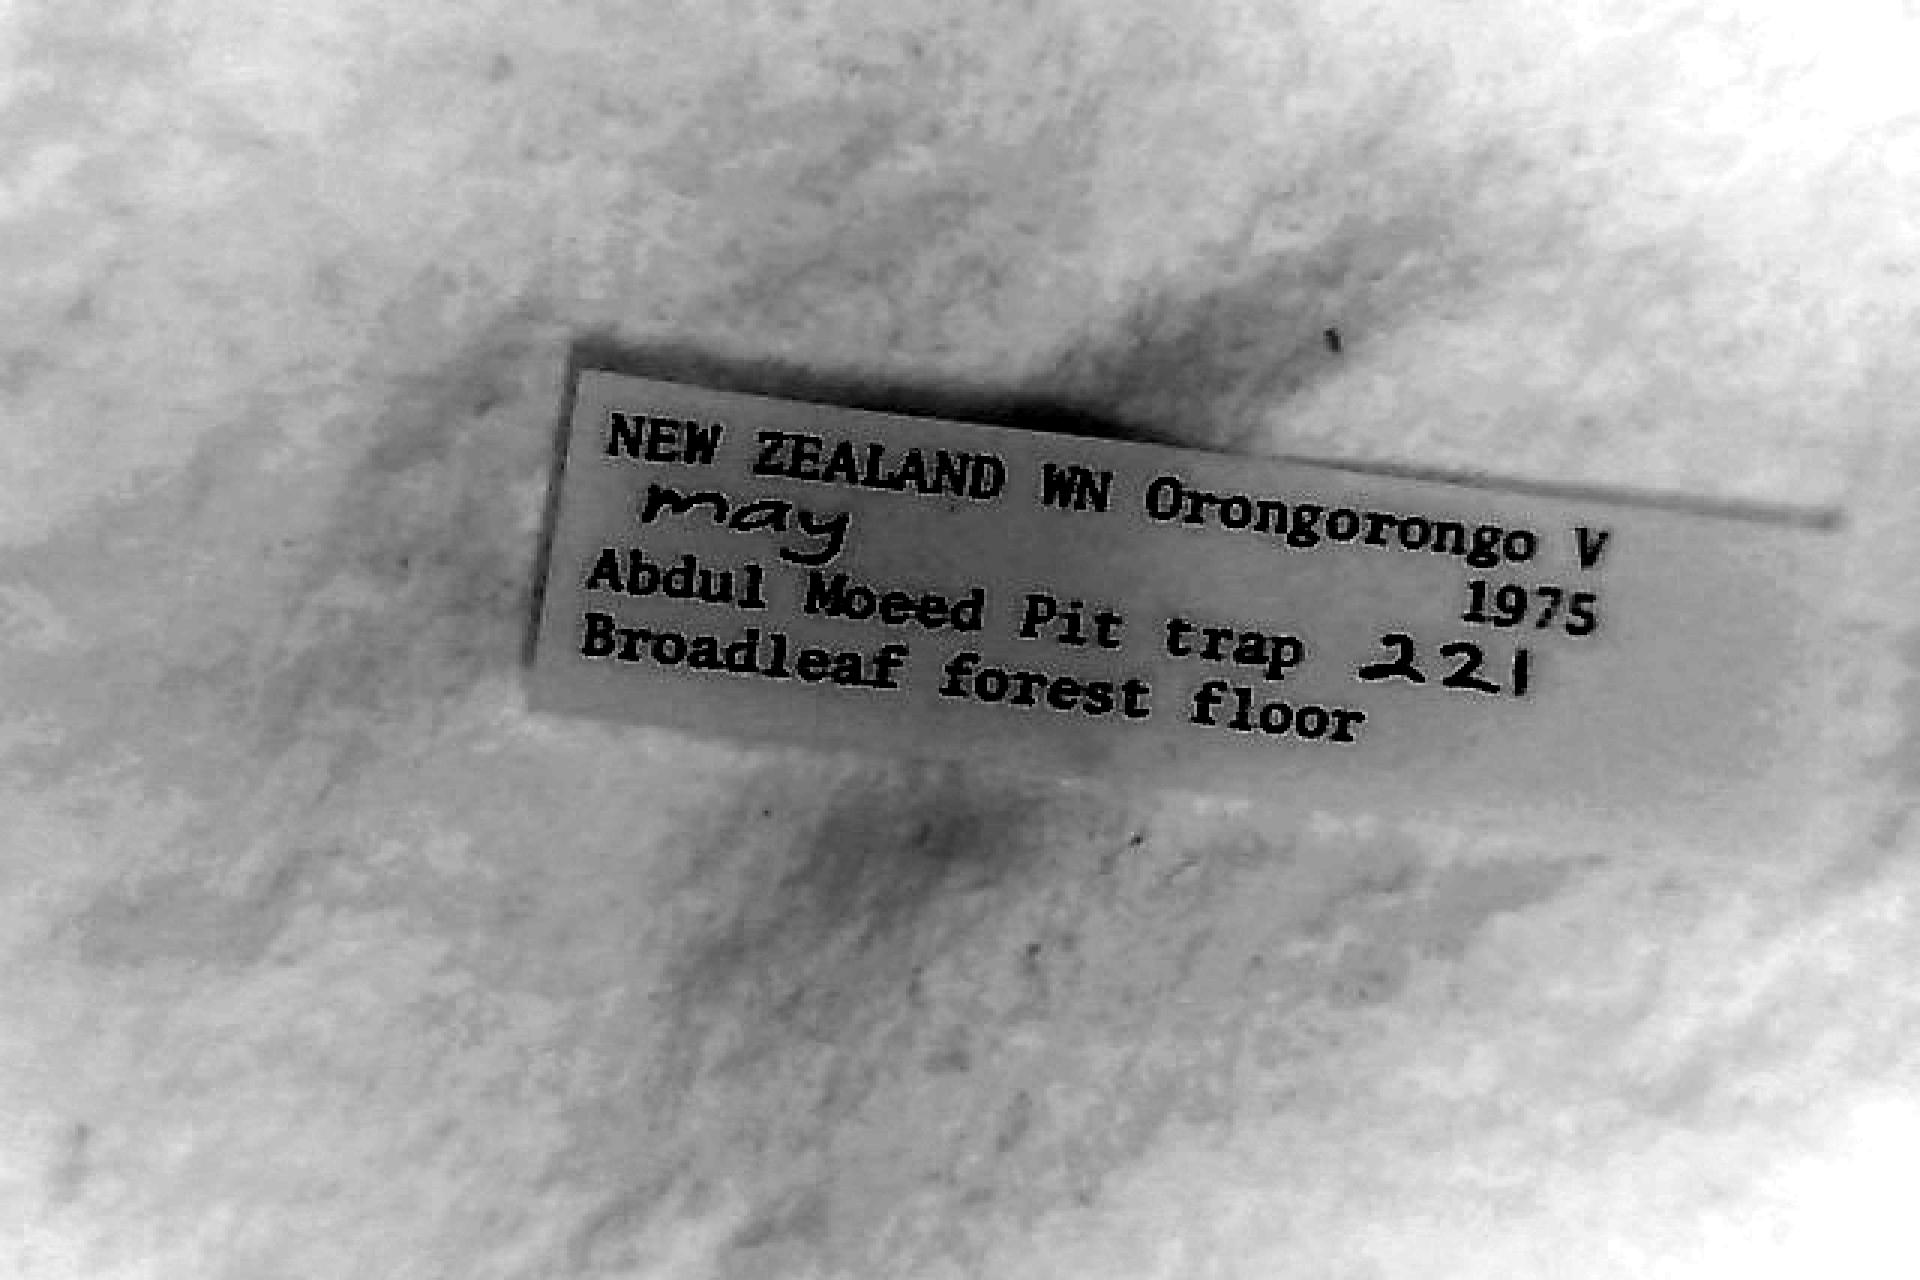mixed_label: (533, 370, 1830, 799)
